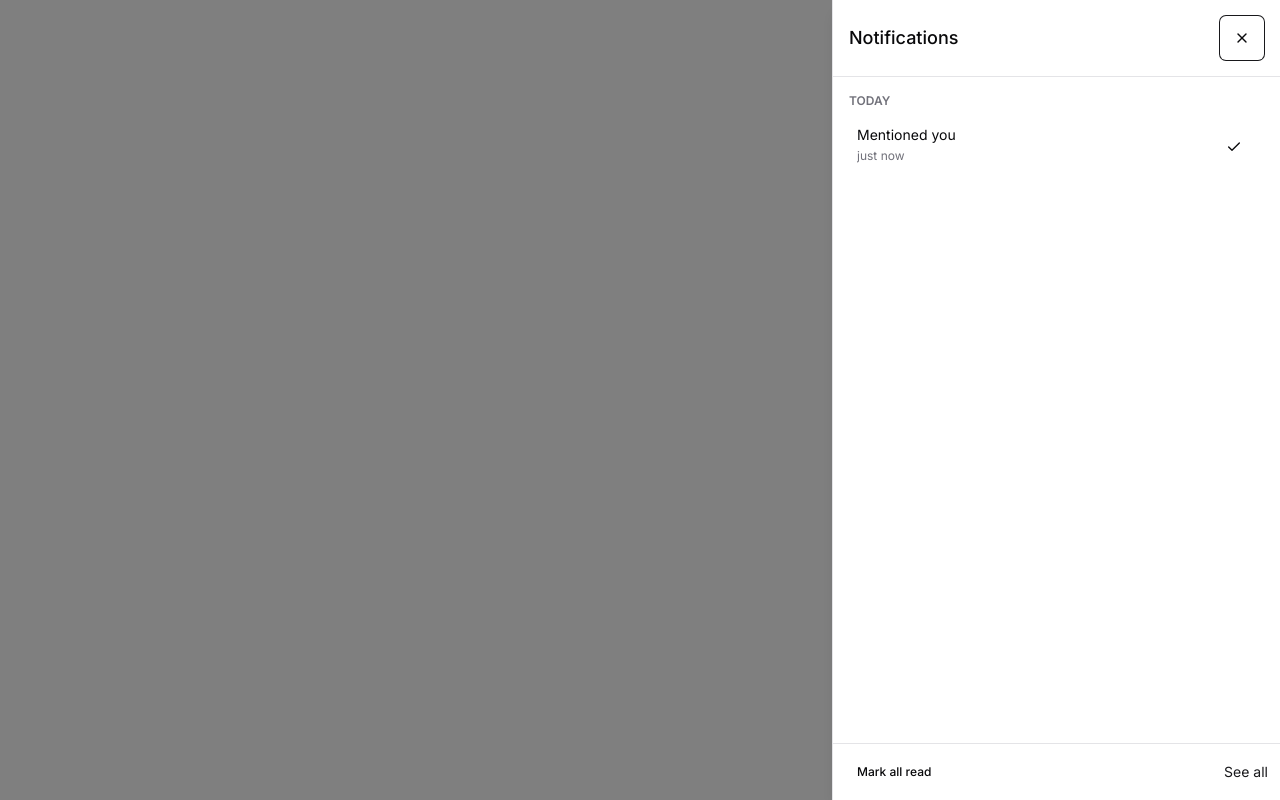
it: <NotificationDrawer> busy + tooltips › disables the row mark-read while in flight
The image size is (1280, 800).
Click the button "Mark all read" at (894, 772), box [845,756,943,788]
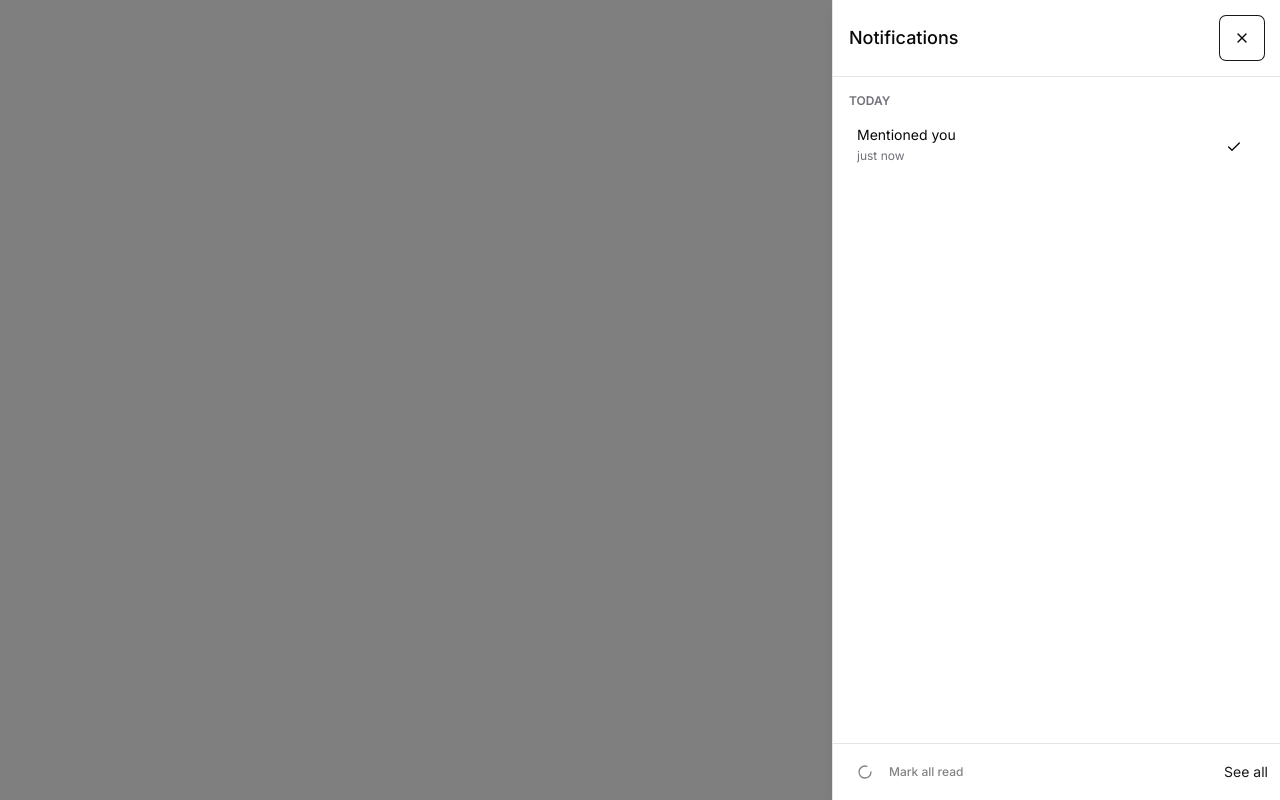
expect the button "Mark all read" is disabled: met, box [845,756,975,788]
